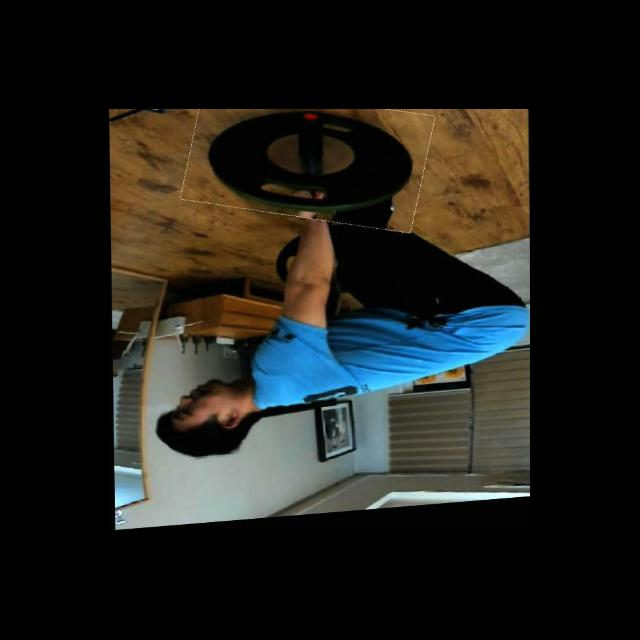barbell: (184, 109, 431, 241)
